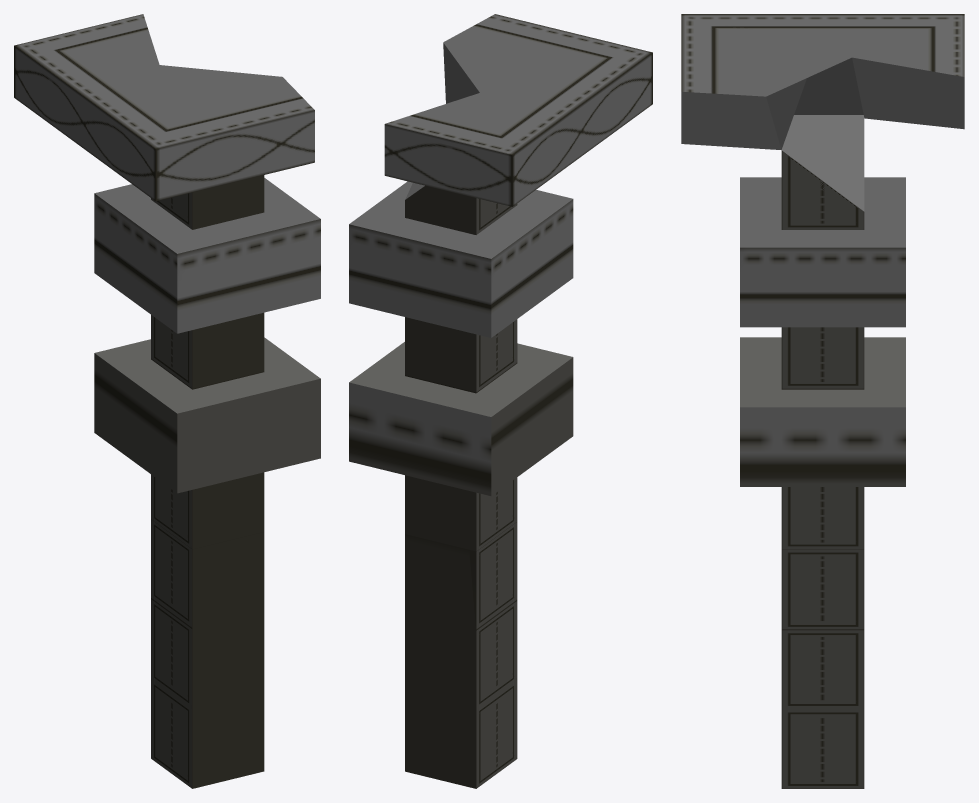
The model's file is Platform_0_Broken.fbx.
3 views of the same model, side by side, from view 1: azimuth 30°, elevation 25°; view 2: azimuth 150°, elevation 25°; view 3: azimuth 270°, elevation 25° (orthographic).
Visible parts, largest first — view 1: Model_0; view 2: Model_0; view 3: Model_0.
Part boxes in pixels (box(x1,y1,x2,y2)): Model_0: box(14, 14, 320, 788); Model_0: box(349, 14, 652, 788); Model_0: box(681, 14, 964, 788).
Size of the model in its own units: 330 by 1130 by 416.
